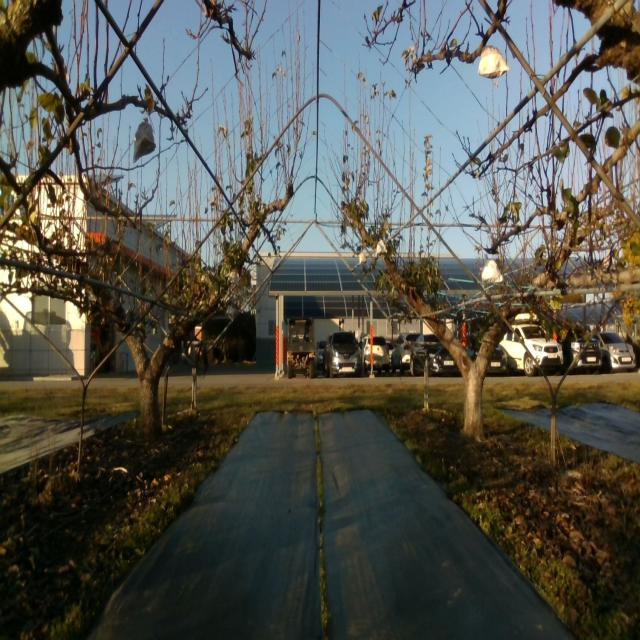pearbags: (478, 42, 509, 80), (132, 118, 156, 162), (481, 255, 503, 288)
